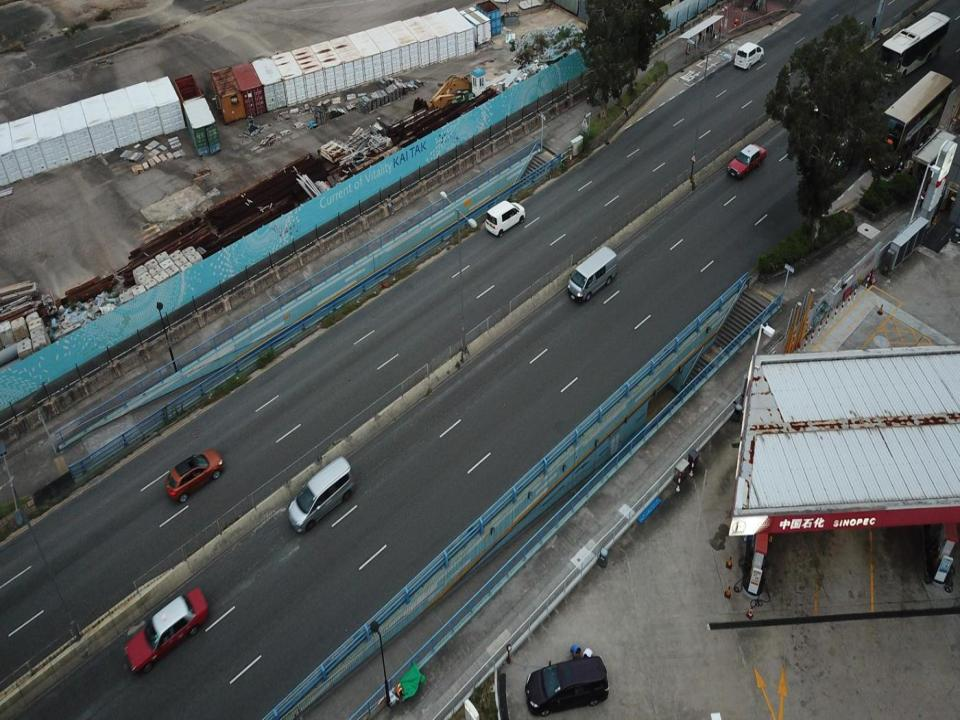car: (124, 588, 207, 677), (285, 455, 355, 535), (523, 657, 610, 715), (166, 448, 225, 504), (483, 201, 528, 239), (724, 144, 768, 178), (734, 41, 764, 70)
van: (567, 246, 619, 308)
